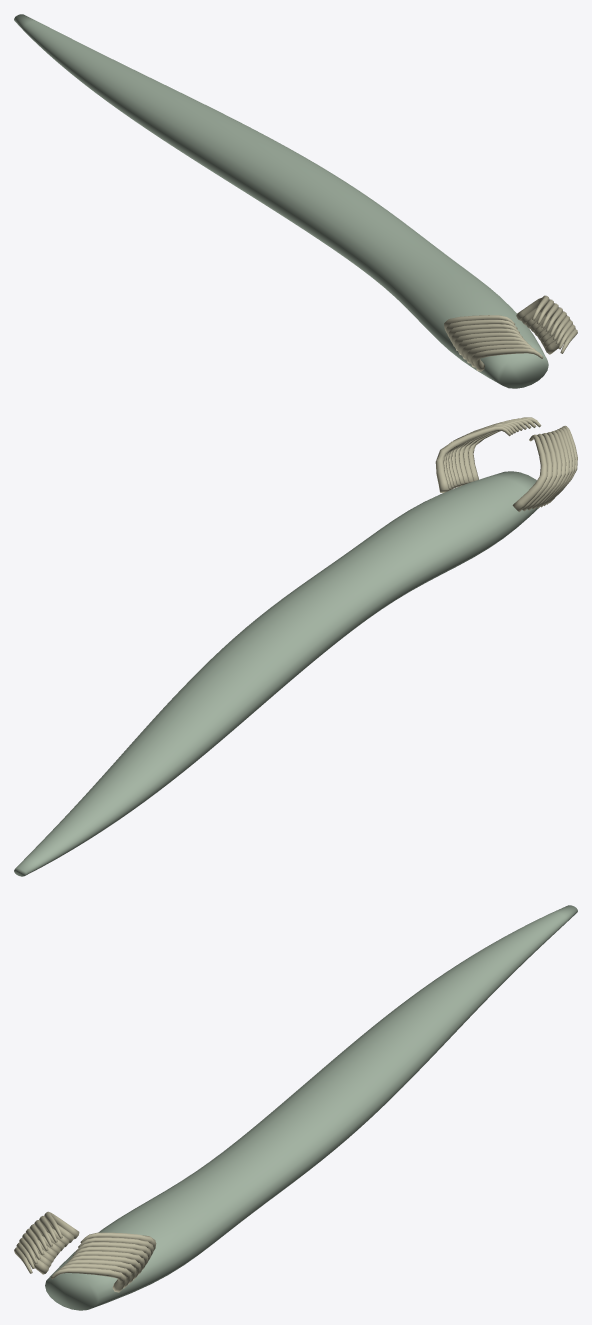
File: capinatator.glb
3 renders of one model, top to bottom at view 1: azimuth 30°, elevation 25°; view 2: azimuth 150°, elevation 25°; view 3: azimuth 330°, elevation 25°, orthographic. The views are drawn at different scales.
Visible parts, largest first — view 1: continuous-slender-flexible-body-and-head-no-ring-worm-segme, two-opposed-curving-head-spine-arrays-blunt-friendly-static; view 2: continuous-slender-flexible-body-and-head-no-ring-worm-segme, two-opposed-curving-head-spine-arrays-blunt-friendly-static; view 3: continuous-slender-flexible-body-and-head-no-ring-worm-segme, two-opposed-curving-head-spine-arrays-blunt-friendly-static.
Part boxes in pixels (x1,y1,x2,y2): continuous-slender-flexible-body-and-head-no-ring-worm-segme: (14, 14, 548, 388); two-opposed-curving-head-spine-arrays-blunt-friendly-static: (444, 295, 577, 371); continuous-slender-flexible-body-and-head-no-ring-worm-segme: (14, 471, 539, 876); two-opposed-curving-head-spine-arrays-blunt-friendly-static: (435, 417, 577, 511); continuous-slender-flexible-body-and-head-no-ring-worm-segme: (45, 905, 577, 1310); two-opposed-curving-head-spine-arrays-blunt-friendly-static: (14, 1211, 156, 1292).
Size of the model in its own units: 0.0102 by 0.00725 by 0.0848.
